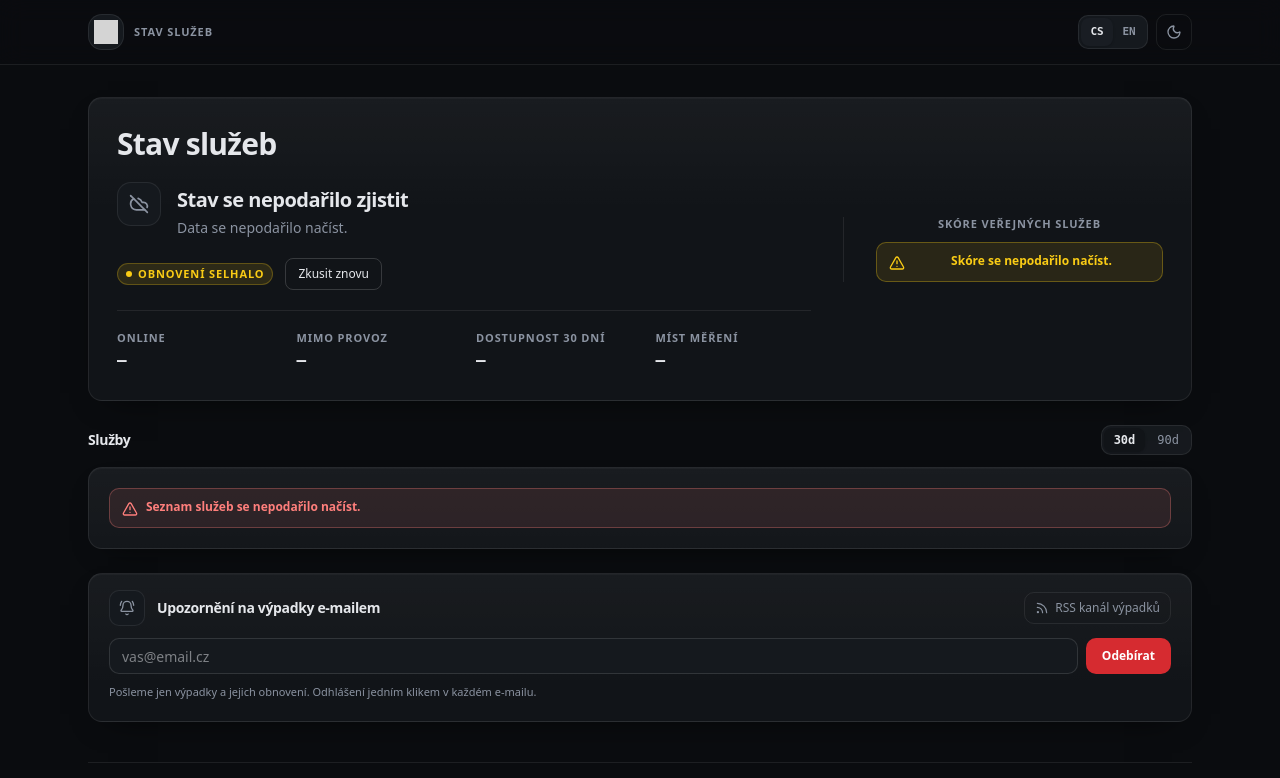
Test: Veřejná stránka: selhání není „vše v pořádku“ (W1-A1) › „Zkusit znovu“ po obnovení API ukáže skutečný stav
This screenshot has width=1280, height=778.
Expected: the text "Stav se nepodařilo zjistit" is shown, [177,186,408,213]
Click the button "Zkusit znovu" at (334, 274), box [285,258,382,290]
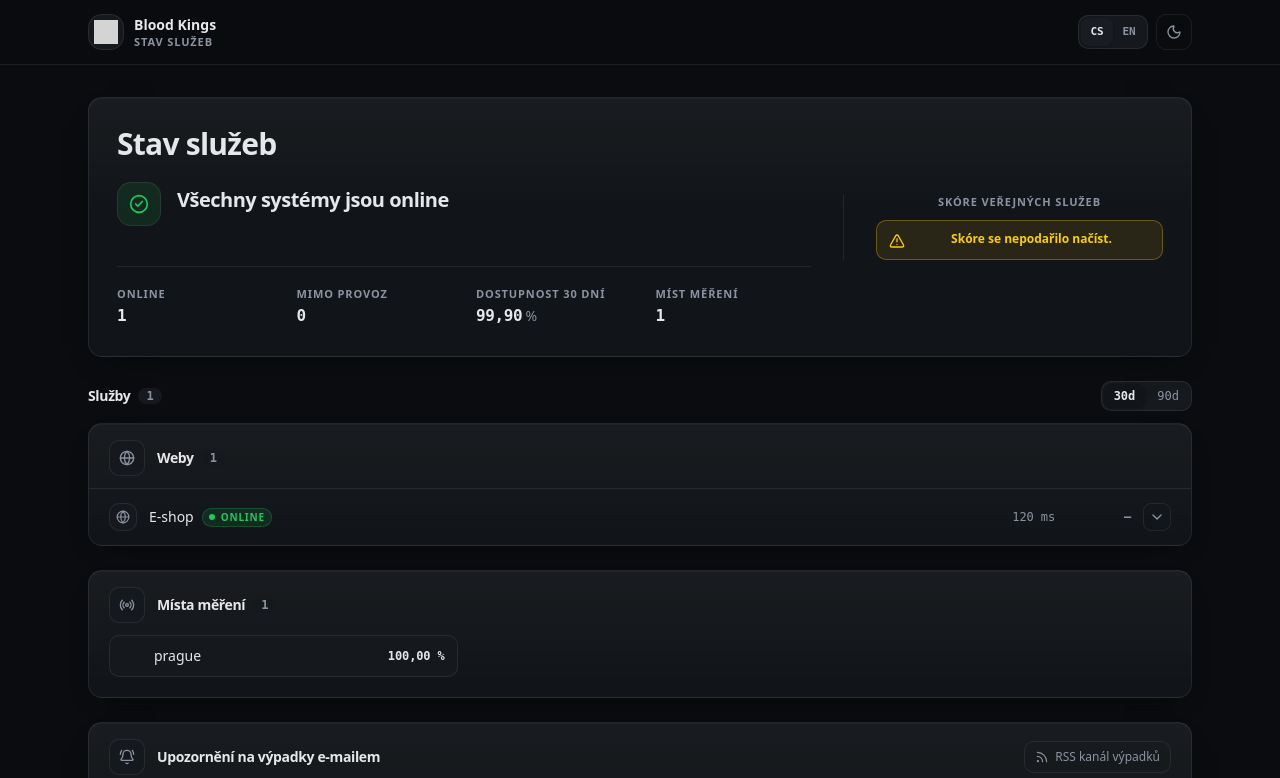
Expected: the text "Všechny systémy jsou online" is shown, [177,186,449,213]
Expected: the text "Stav se nepodařilo zjistit" is gone
